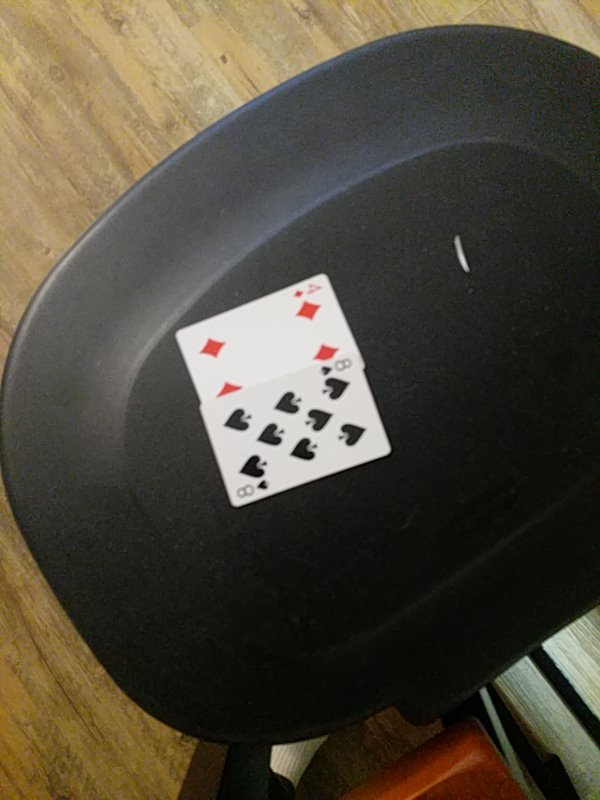Diamonds: (177, 276, 366, 399)
Spades: (198, 356, 396, 506)
